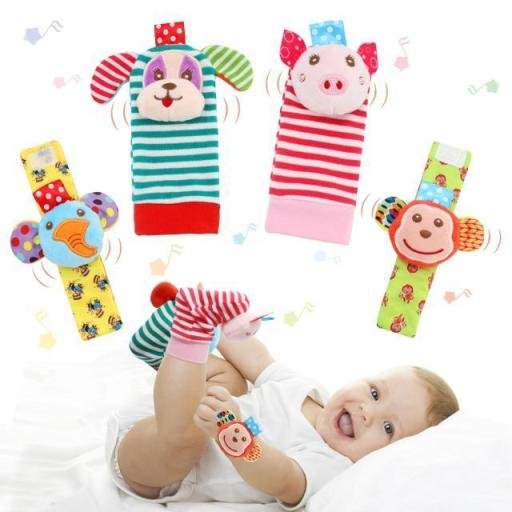baby: (104, 290, 463, 510)
